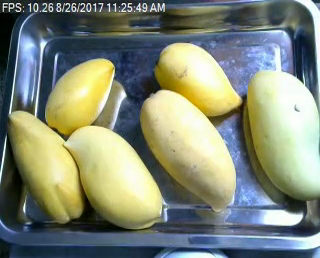Mango: (139, 90, 235, 210), (65, 125, 167, 229), (247, 70, 320, 200), (6, 111, 84, 224), (153, 41, 242, 119), (45, 56, 114, 136)
